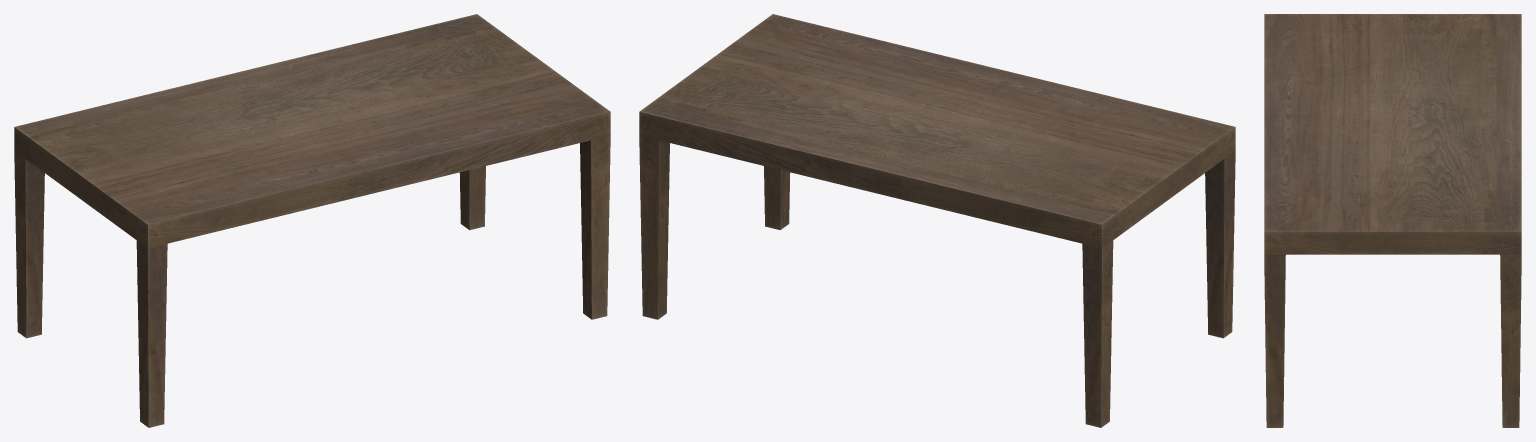
Rendered from Table.fbx.
3 renders of one model, left to right at view 1: azimuth 30°, elevation 25°; view 2: azimuth 150°, elevation 25°; view 3: azimuth 270°, elevation 25°, orthographic. The views are drawn at different scales.
Parts seen in each view (by area): view 1: Table; view 2: Table; view 3: Table.
Boxes of the visible parts, x1,y1,x2,y2 form: Table: [14, 14, 610, 427]; Table: [639, 14, 1235, 427]; Table: [1264, 14, 1521, 427].
Size of the model in its own units: 800 by 338 by 400.
Materials: 1 (1 with a texture image).
